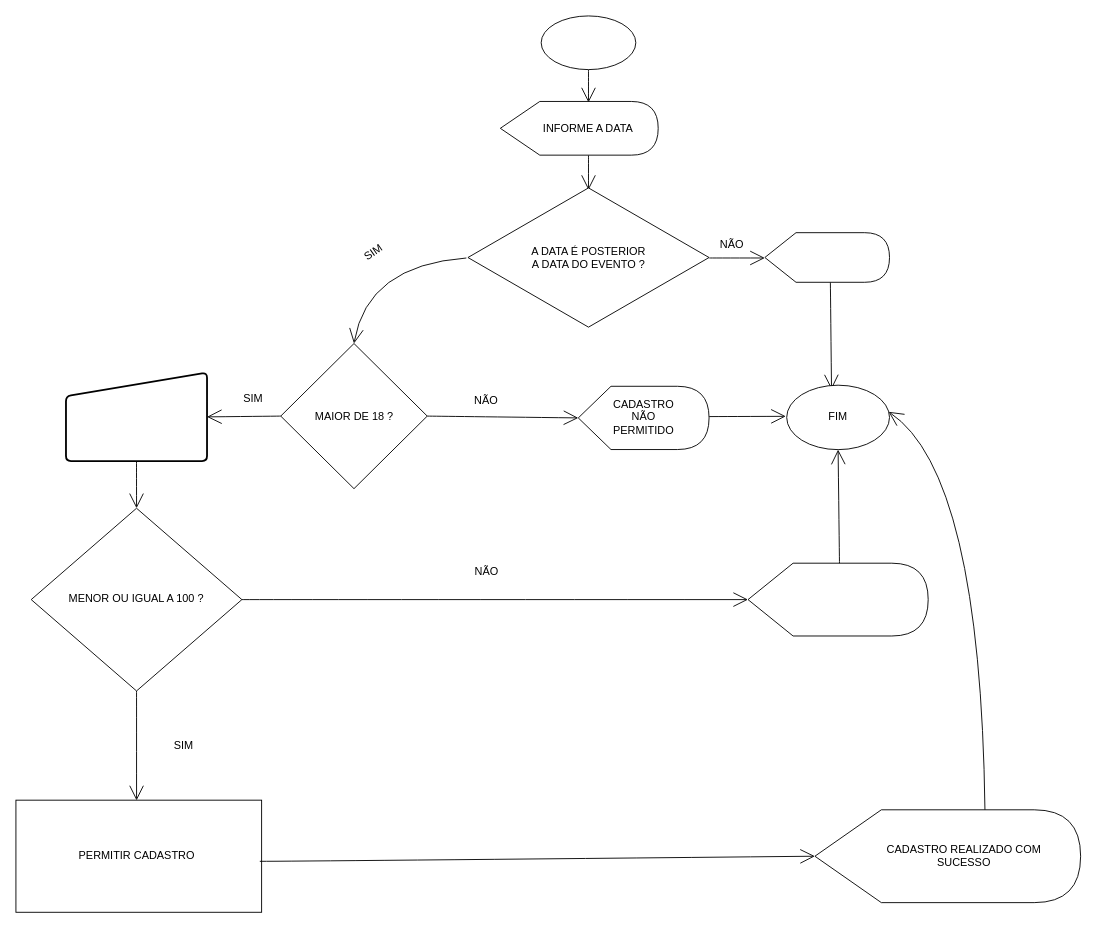
Image size: 1097x928. Some labels were removed from this diagram. The shapes that lost their labels are listed below. From the top down, each one's centre as x and y in pixels, then its label:
At point 588,42: "INICIO".
At point 827,257: "DATA INVALIDA".
At point 136,416: "LISTA DE PARTICIPANTES".
At point 837,599: "LIMITE DE PARTICIPANTES EXCEDIDO, NÃO PERMITIR CADASTRO".
